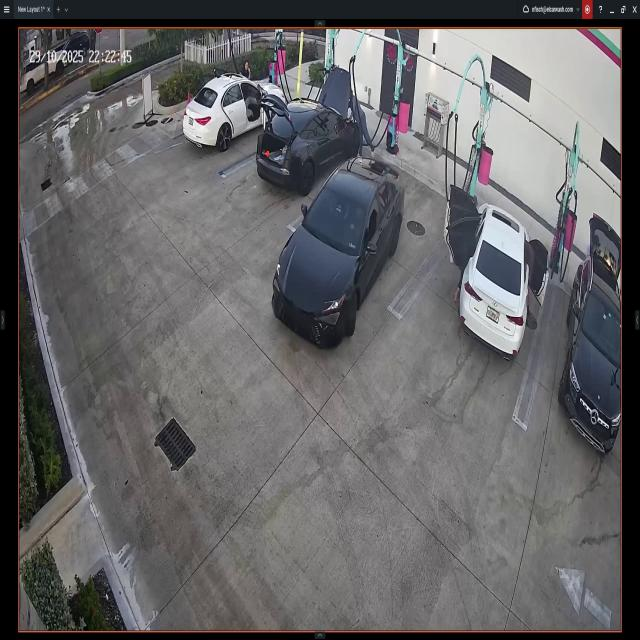Car: (270, 152, 403, 352), (449, 184, 548, 370), (558, 220, 622, 450), (260, 68, 359, 193), (182, 71, 286, 147)
